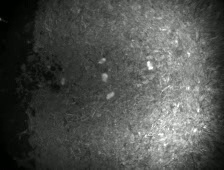corn: (144, 58, 155, 73), (104, 90, 116, 101), (96, 56, 109, 66), (99, 72, 109, 84), (58, 76, 67, 87)
